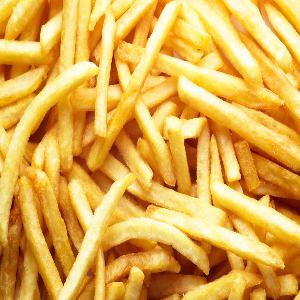fries_350cal: (7, 6, 294, 293)
